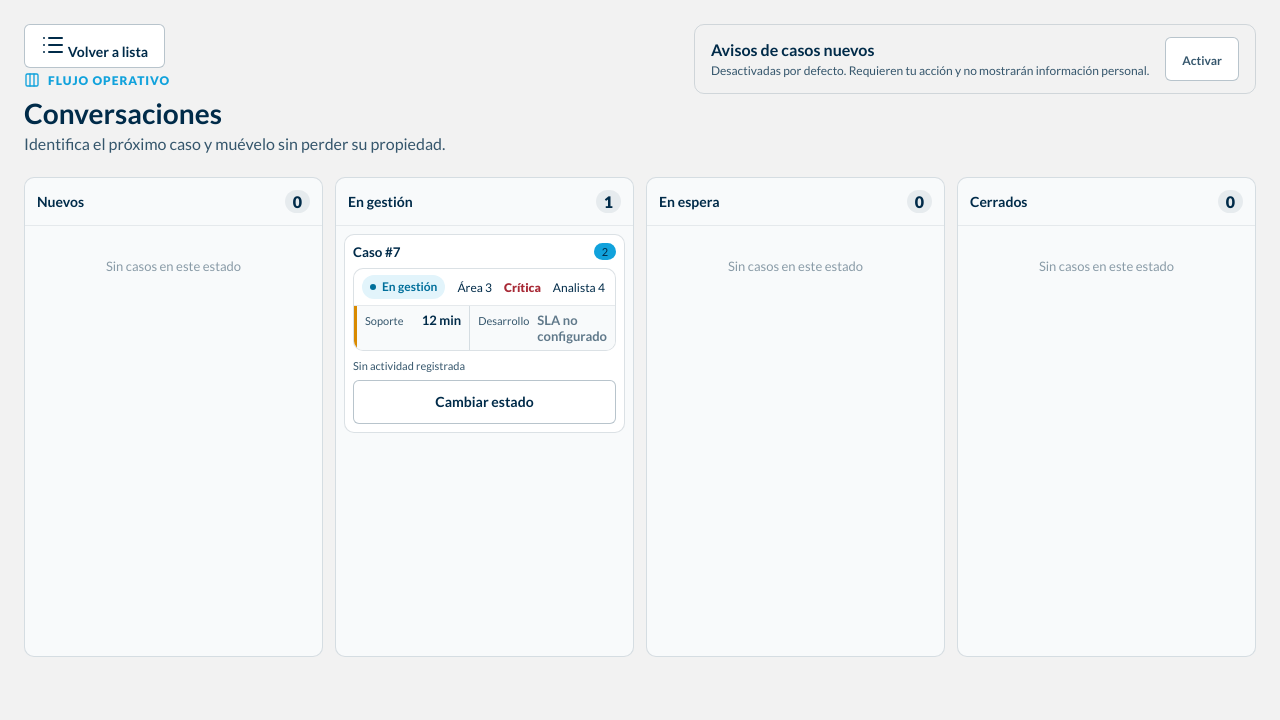
Test case: ConversationBoard › renders all lanes, critical priority, dual clocks, and keyboard state fallback
The width and height of the screenshot is (1280, 720).
Expected: the heading "Nuevos" is shown, 37,193 -> 84,210
Expected: the heading "En gestión" is shown, 348,193 -> 413,210
Click the button "Cambiar estado" at (484,402), box 353,380 -> 616,424
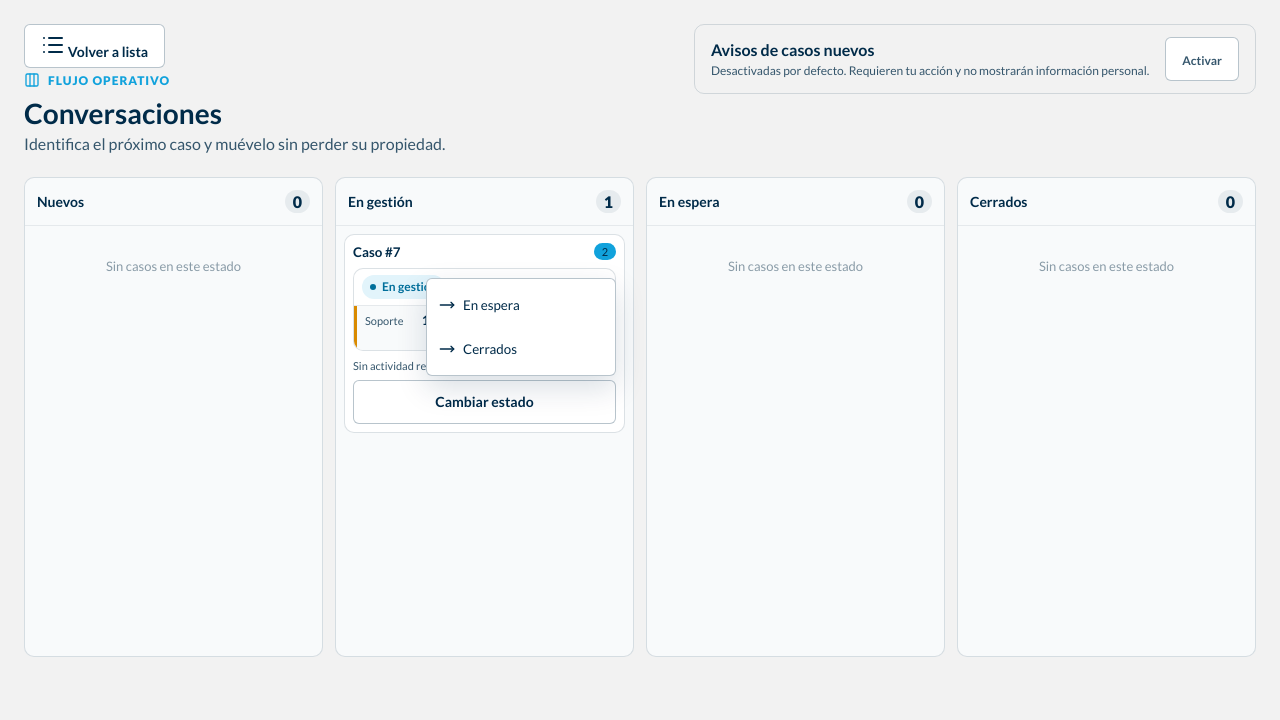
Expected: the menu item "En espera" is shown, 431,283 -> 611,327
